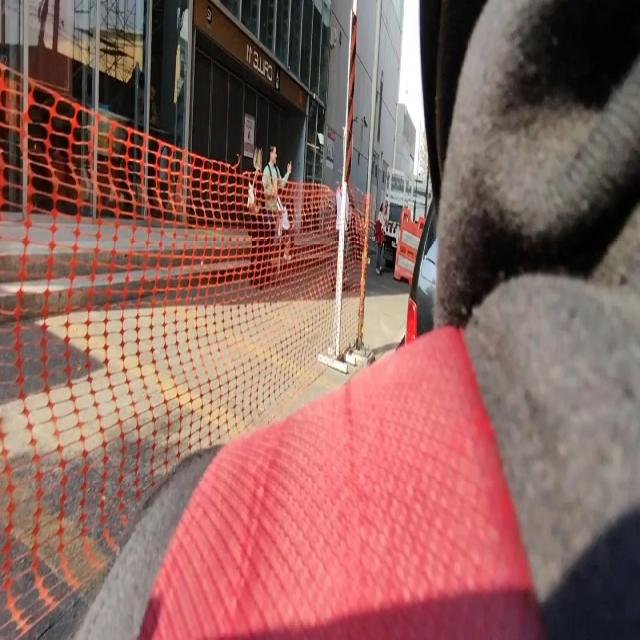adult: (263, 144, 292, 276), (248, 146, 266, 288)
